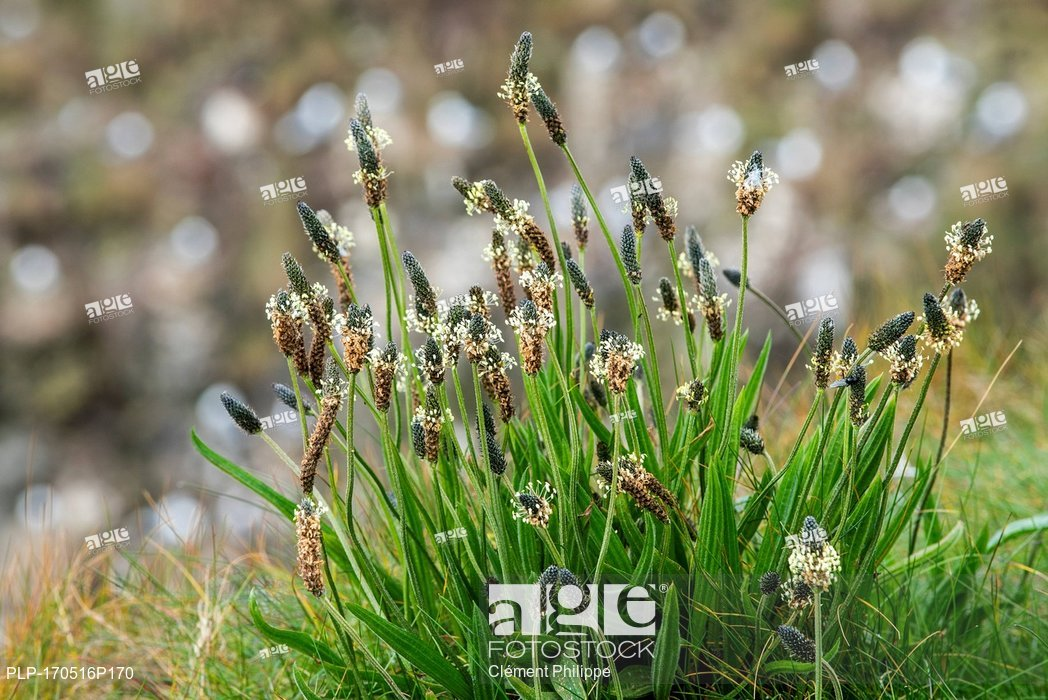buckhorn plantain: (175, 28, 966, 641)
